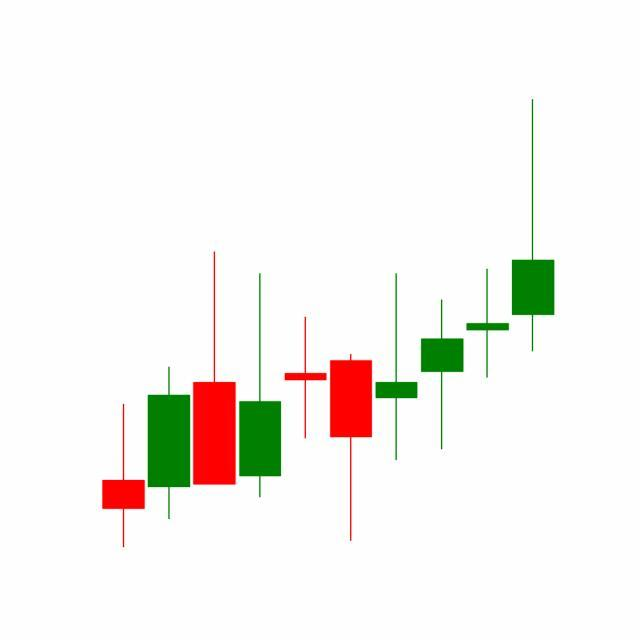Hikkake Pattern: (283, 266, 512, 544)
